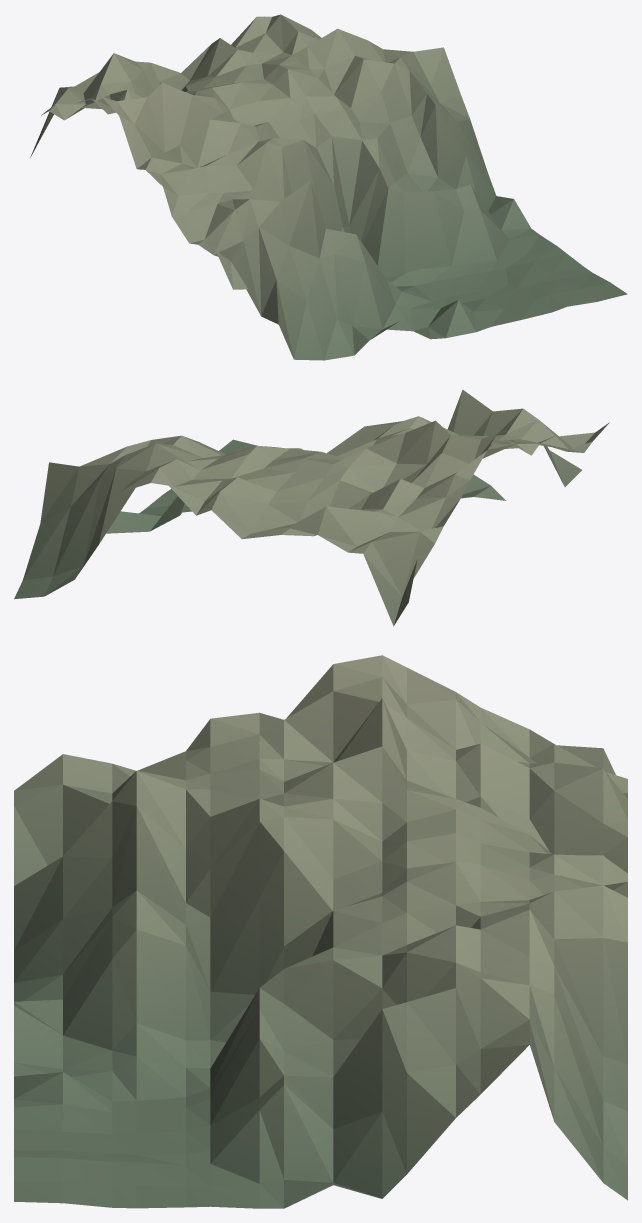
The model's file is tile_3_2.glb.
3 renders of one model, top to bottom at view 1: azimuth 30°, elevation 25°; view 2: azimuth 150°, elevation 25°; view 3: azimuth 270°, elevation 25°, orthographic. The views are drawn at different scales.
Parts seen in each view (by area): view 1: geometry_0; view 2: geometry_0; view 3: geometry_0.
Boxes of the visible parts, x1,y1,x2,y2 form: geometry_0: [30, 14, 627, 360]; geometry_0: [14, 390, 609, 626]; geometry_0: [14, 655, 627, 1208].
Bounding box in the file's own units: 127 × 62.48 × 123.
